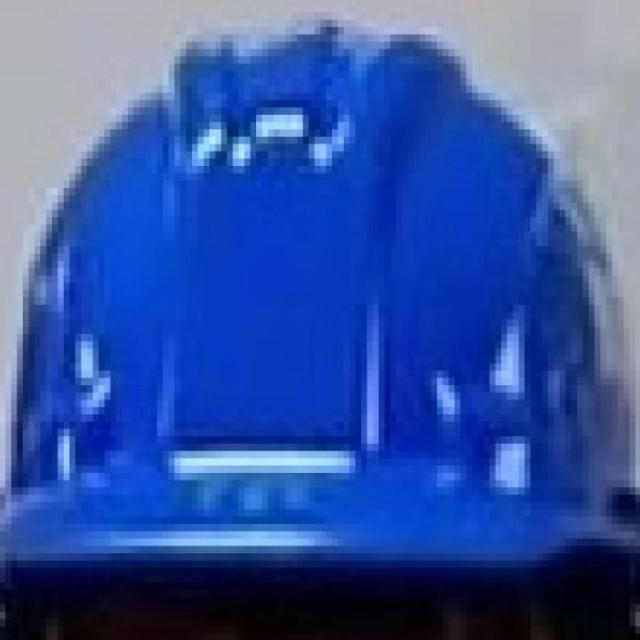helmet: (0, 14, 640, 587)
